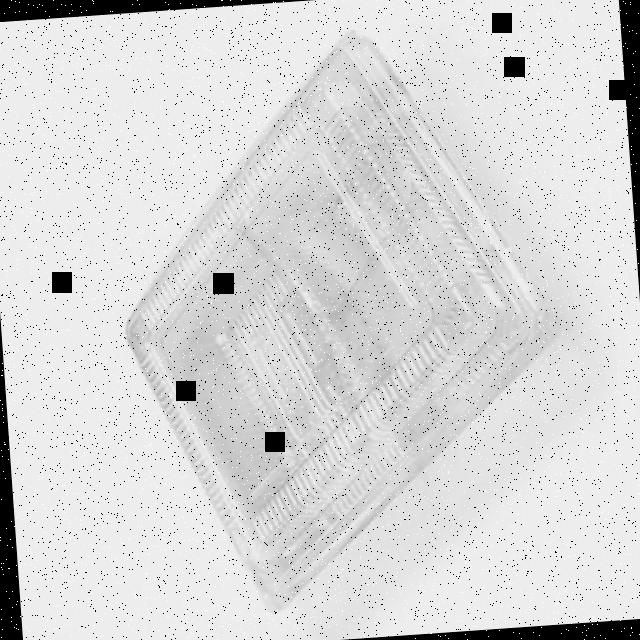plastic_box: (106, 9, 585, 619)
